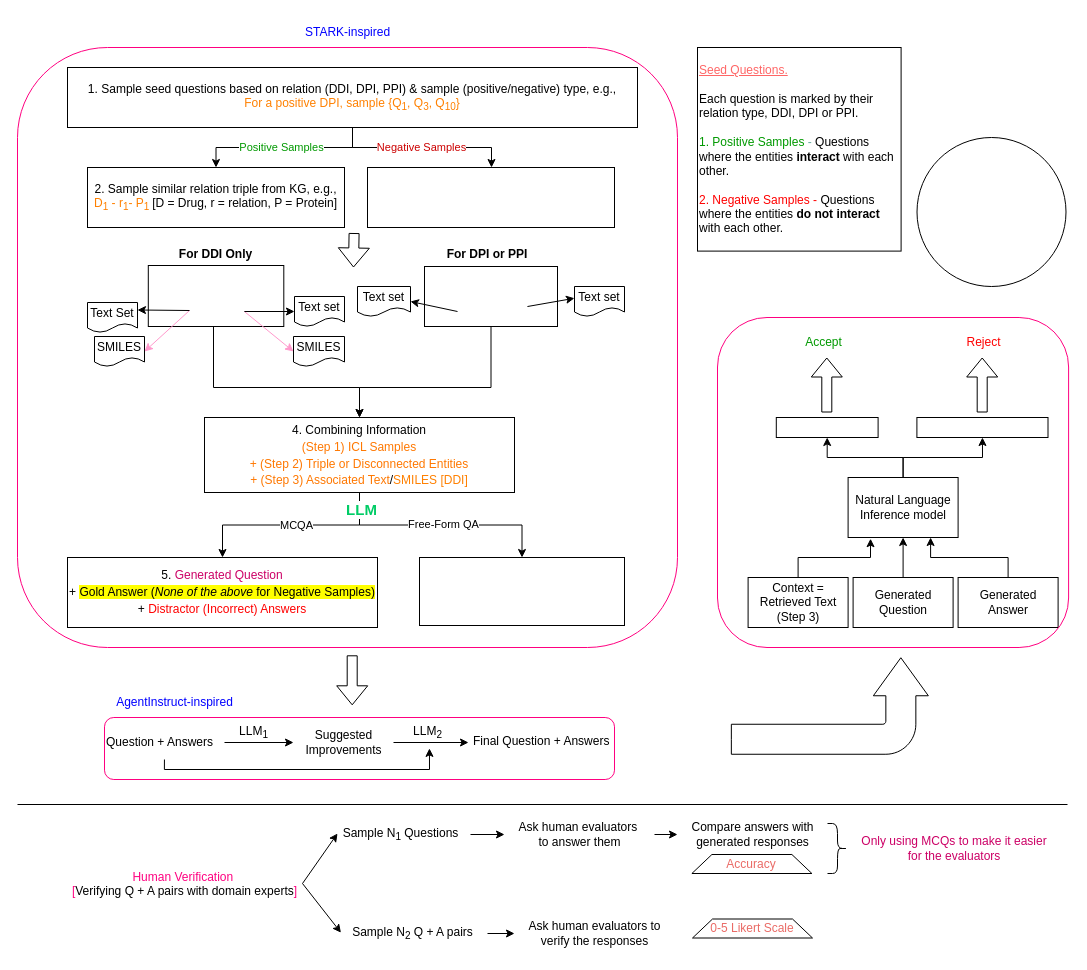
This 1087x970 diagram has some shape labels left out. Each missing label, with the box of its shape:
2. Sample entities from the KG that are NOT connected , e.g., D 1 and P 17: (366, 166, 614, 228)
3. Retrieve Text Set for each element D/P - r/{}- P: (424, 266, 558, 326)
3. Retrieve Text Set or SMILES for each drug D - r/{}- D: (147, 264, 284, 326)
5. Generated Question + Long-form answer (Template response for no relationship): (418, 556, 624, 626)
Automatic Verification: (730, 657, 928, 754)
Entailment: (775, 416, 878, 438)
Neutral/Contradiction: (916, 416, 1048, 438)
We have 2 kinds of entities, Drugs & Proteins: (916, 136, 1066, 286)
